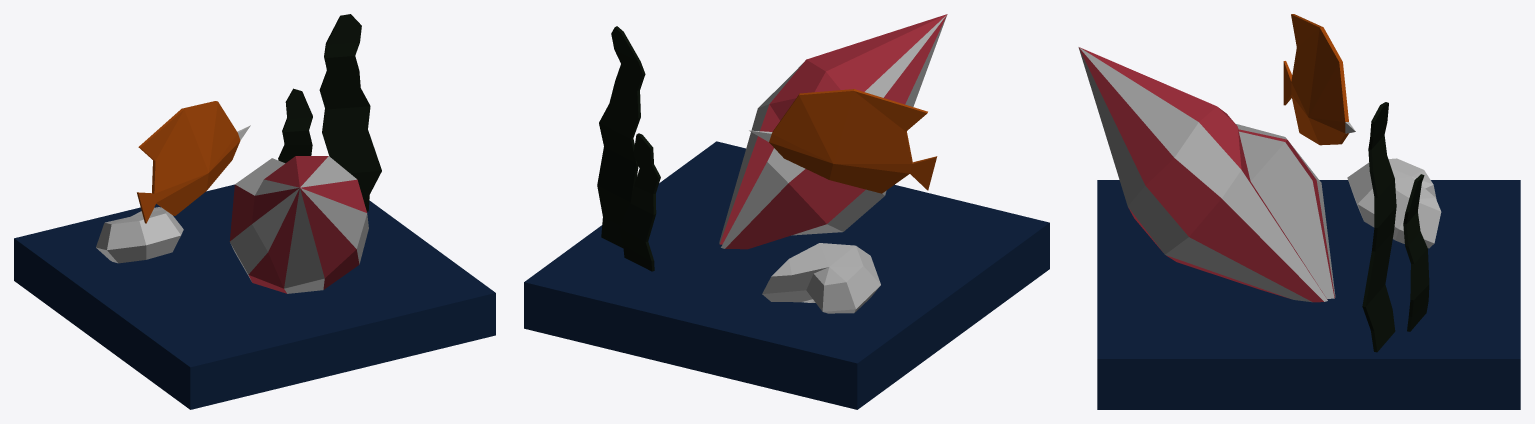
File: W_O_Playground_SeaSymbolic_001_L3.fbx
3 renders of one model, left to right at view 1: azimuth 30°, elevation 25°; view 2: azimuth 150°, elevation 25°; view 3: azimuth 270°, elevation 25°, orthographic. The views are drawn at different scales.
Parts seen in each view (by area): view 1: W_O_Playground_SeaSymbolic_001_L3; view 2: W_O_Playground_SeaSymbolic_001_L3; view 3: W_O_Playground_SeaSymbolic_001_L3.
Part boxes in pixels (left/top/right/bottom): W_O_Playground_SeaSymbolic_001_L3: left=14, top=14, right=495, bottom=409; W_O_Playground_SeaSymbolic_001_L3: left=524, top=14, right=1049, bottom=409; W_O_Playground_SeaSymbolic_001_L3: left=1078, top=14, right=1520, bottom=409.
Bounding box in the file's own units: 2 × 1.51 × 2.09.
